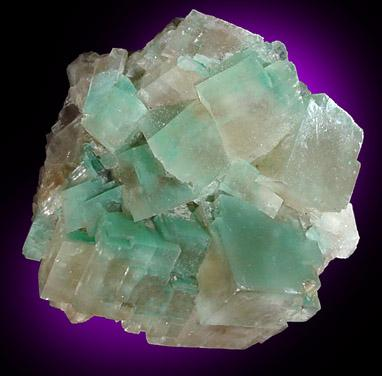calcite: (23, 10, 364, 350)
